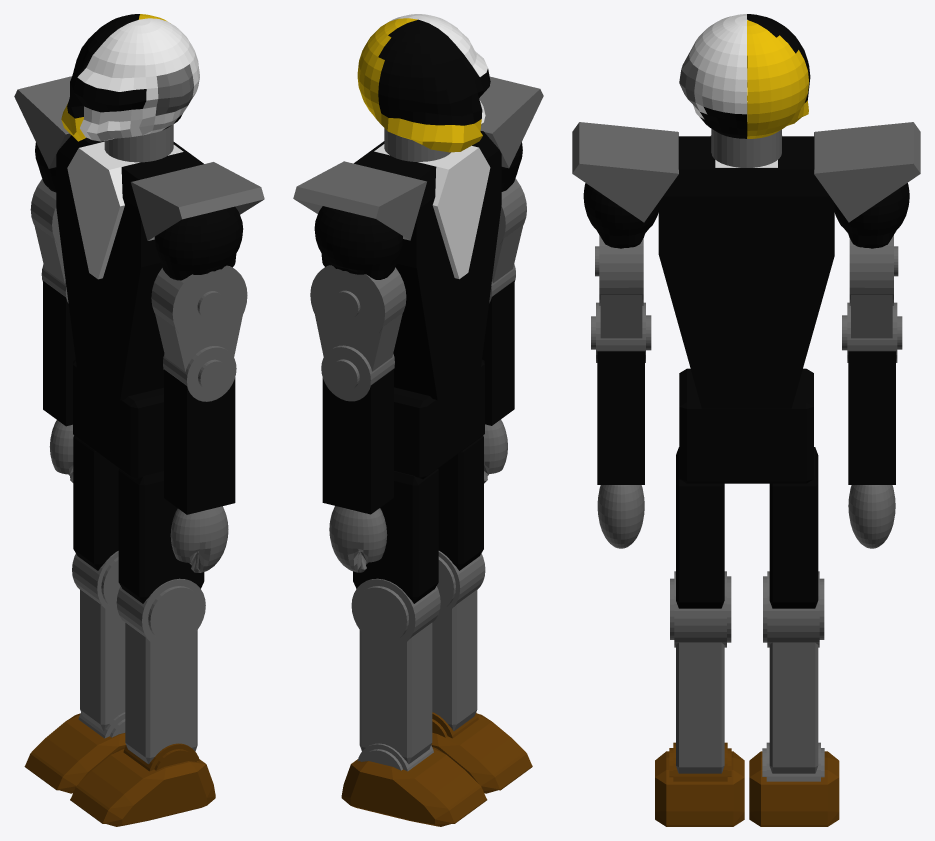
Rendered from daftpunk.fbx.
3 views of the same model, side by side, from view 1: azimuth 30°, elevation 25°; view 2: azimuth 150°, elevation 25°; view 3: azimuth 270°, elevation 25° (orthographic). The views are drawn at different scales.
Visible parts, largest first — view 1: Cube, Sphere, forearm, Cube.003, Cube.004, Cube.001, Cube.002, shoulderpadright.001, bicep, Cube.008, Cube.006, Cube.007 (+17 smaller); view 2: Cube, Sphere.001, forearm.001, Cube.006, Cube.005, Cube.001, Cube.007, shoulderpadright, bicep.001, Cube.003, Cube.008, Cube.002 (+17 smaller); view 3: Cube, Cube.001, shoulderpadright, shoulderpadright.001, Cube.006, Sphere.001, Cube.007, Cube.003, forearm, forearm.001, Sphere, Cube.002 (+17 smaller).
Part boxes in pixels (<box>): Cube: <box>56,135,203,400</box>; Sphere: <box>73,18,199,141</box>; forearm: <box>164,369,235,514</box>; Cube.003: <box>125,623,197,764</box>; Cube.004: <box>70,747,215,826</box>; Cube.001: <box>73,360,163,479</box>; Cube.002: <box>118,469,204,603</box>; shoulderpadright.001: <box>131,162,264,240</box>; bicep: <box>151,265,247,344</box>; Cube.008: <box>67,141,183,279</box>; Cube.006: <box>80,589,125,731</box>; Cube.007: <box>73,435,119,570</box>; Cube: <box>354,131,501,399</box>; Sphere.001: <box>357,18,483,152</box>; forearm.001: <box>322,369,393,514</box>; Cube.006: <box>359,622,432,764</box>; Cube.005: <box>341,747,487,826</box>; Cube.001: <box>394,359,484,479</box>; Cube.007: <box>353,469,438,603</box>; shoulderpadright: <box>293,161,426,240</box>; bicep.001: <box>310,265,406,344</box>; Cube.003: <box>432,589,477,730</box>; Cube.008: <box>374,144,490,279</box>; Cube.002: <box>438,435,483,570</box>; Cube: <box>658,136,834,408</box>; Cube.001: <box>679,368,813,483</box>; shoulderpadright: <box>814,122,920,222</box>; shoulderpadright.001: <box>572,122,678,222</box>; Cube.006: <box>769,642,818,773</box>; Sphere.001: <box>747,14,810,138</box>; Cube.007: <box>769,447,818,608</box>; Cube.003: <box>676,642,724,773</box>; forearm: <box>597,351,644,484</box>; forearm.001: <box>848,351,895,484</box>; Sphere: <box>679,14,747,138</box>; Cube.002: <box>676,447,724,608</box>.
Size of the model in its own units: 343 by 1954 by 777.
